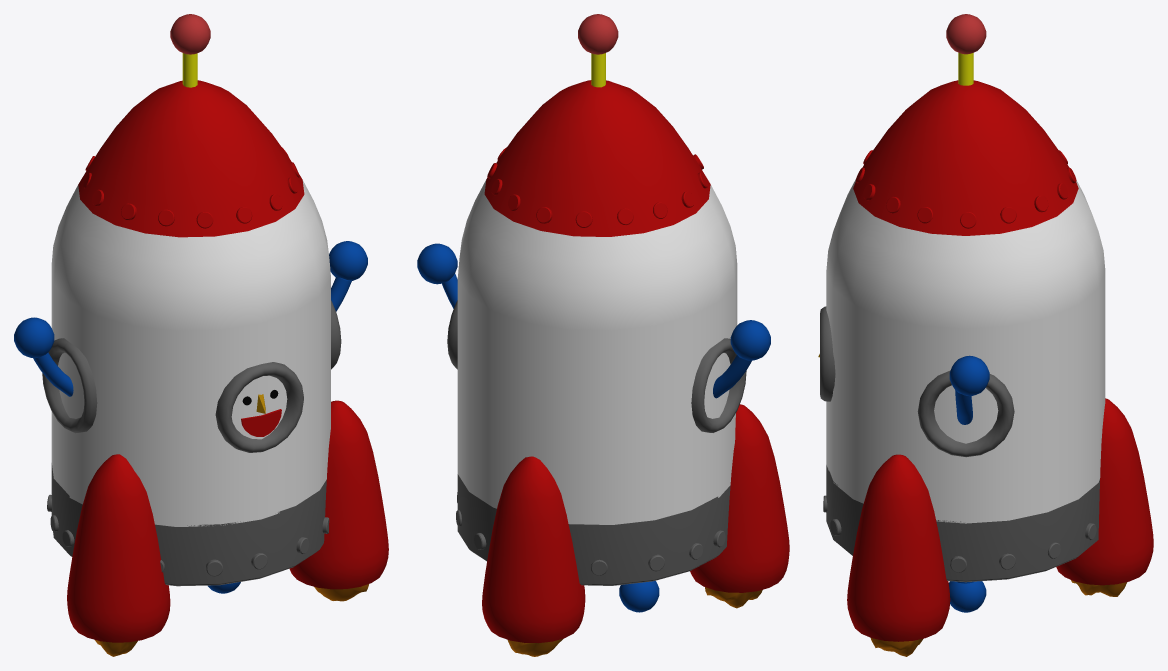
The model's file is M_PJ_Chara_001.fbx.
3 renders of one model, left to right at view 1: azimuth 30°, elevation 25°; view 2: azimuth 150°, elevation 25°; view 3: azimuth 270°, elevation 25°, orthographic.
Parts seen in each view (by area): view 1: SpaceShip; view 2: SpaceShip; view 3: SpaceShip.
Boxes of the visible parts, box(x1,y1,x2,y2) form: SpaceShip: box(14, 14, 388, 656); SpaceShip: box(417, 14, 789, 656); SpaceShip: box(818, 14, 1153, 656).
Size of the model in its own units: 2.86 by 4.59 by 2.41.
